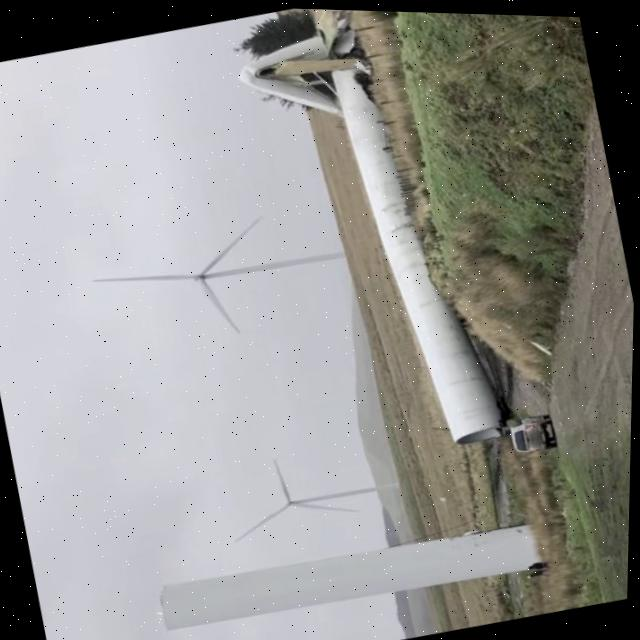solid-blade: (202, 215, 261, 270), (201, 276, 240, 330)
